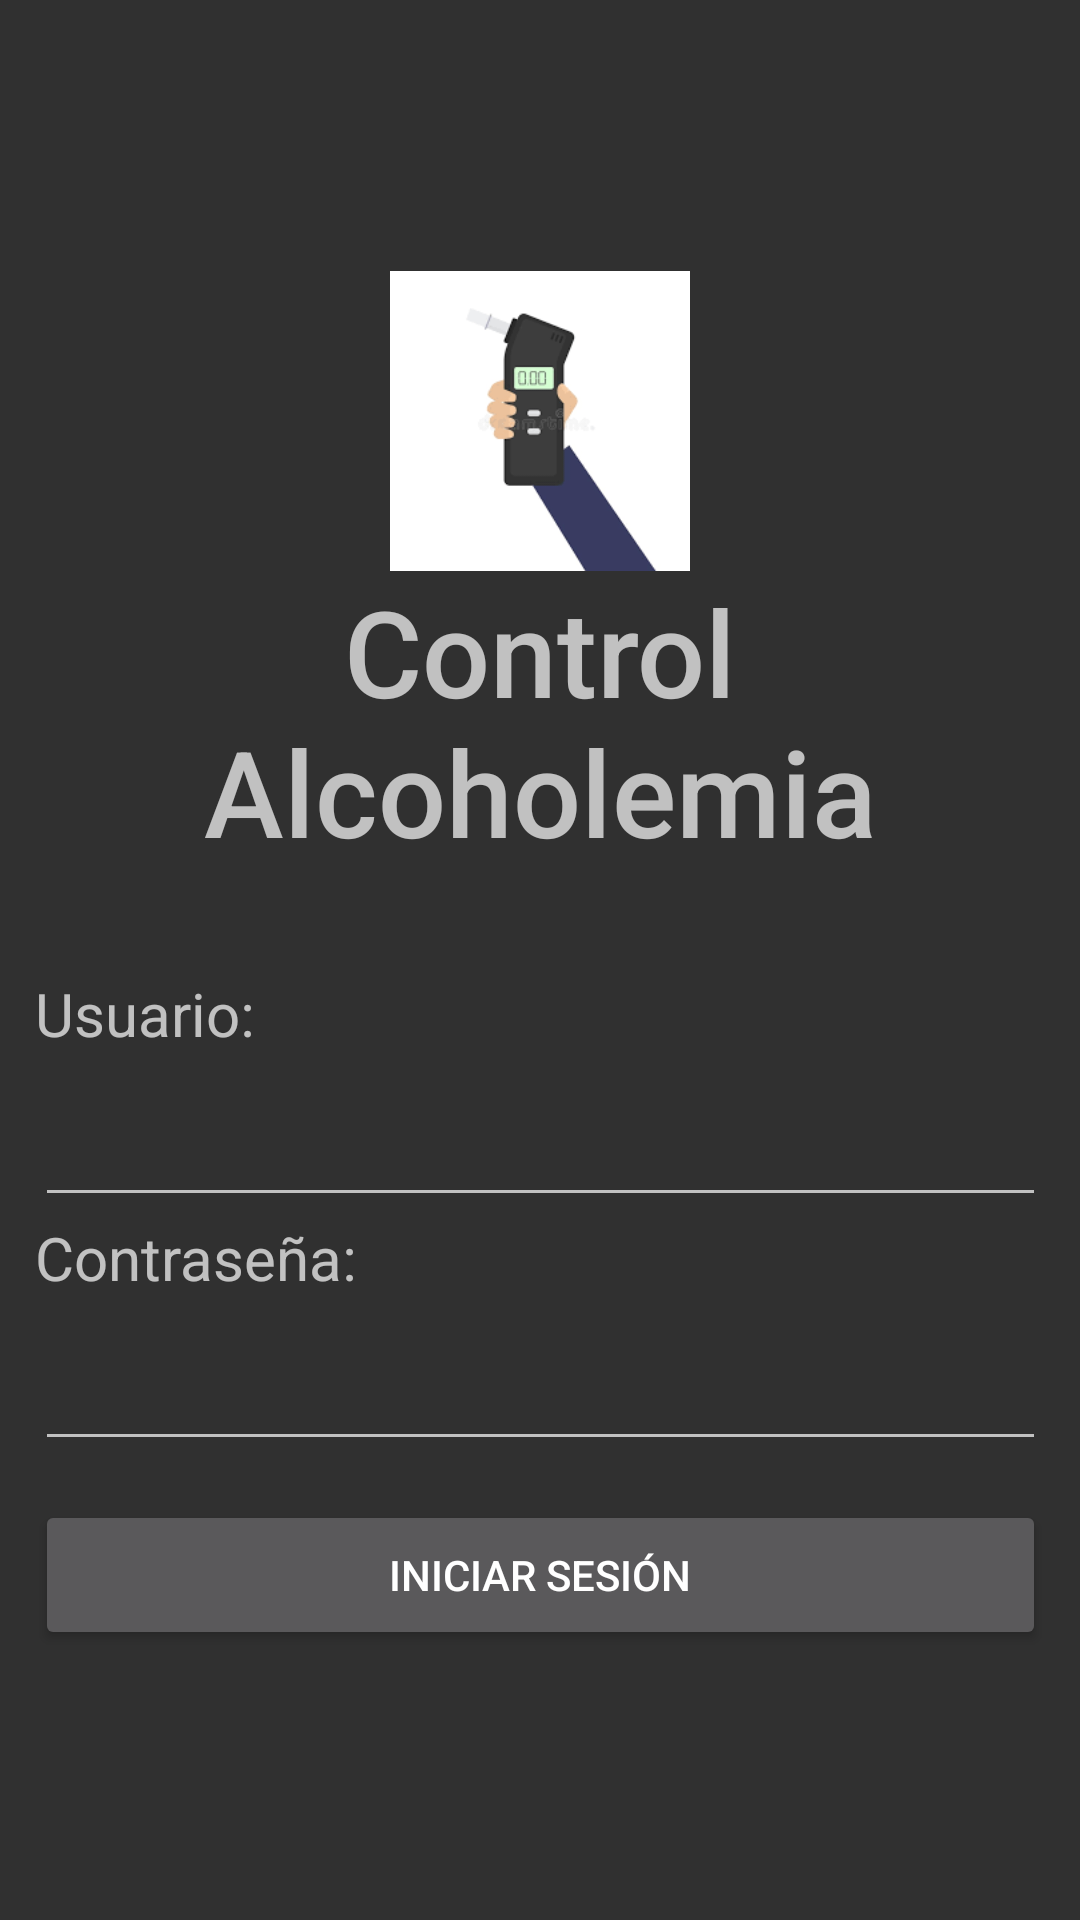

Icons on this 1080*1920 Android screen, each with its box as (x1, y1, x2, y2):
imgandroidalc: (390, 271, 690, 571)
